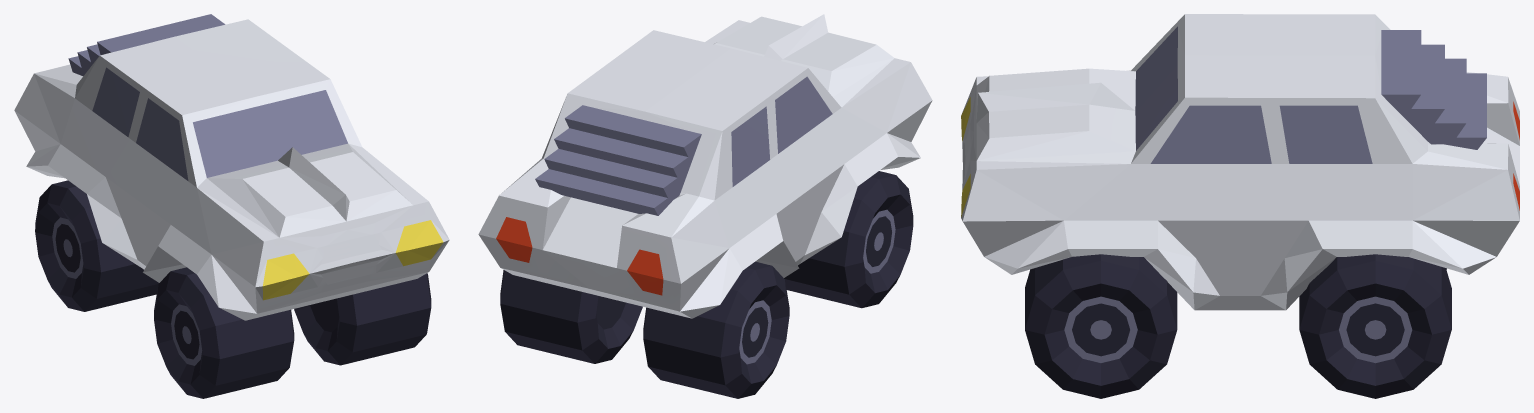
File: Car_White.fbx
3 views of the same model, side by side, from view 1: azimuth 30°, elevation 25°; view 2: azimuth 150°, elevation 25°; view 3: azimuth 270°, elevation 25° (orthographic). The views are drawn at different scales.
Parts seen in each view (by area): view 1: Car_White; view 2: Car_White; view 3: Car_White.
Boxes of the visible parts, box(x1,y1,x2,y2) form: Car_White: box(14, 14, 449, 398); Car_White: box(478, 14, 932, 398); Car_White: box(961, 14, 1519, 398).
Size of the model in its own units: 108 by 111 by 198.
